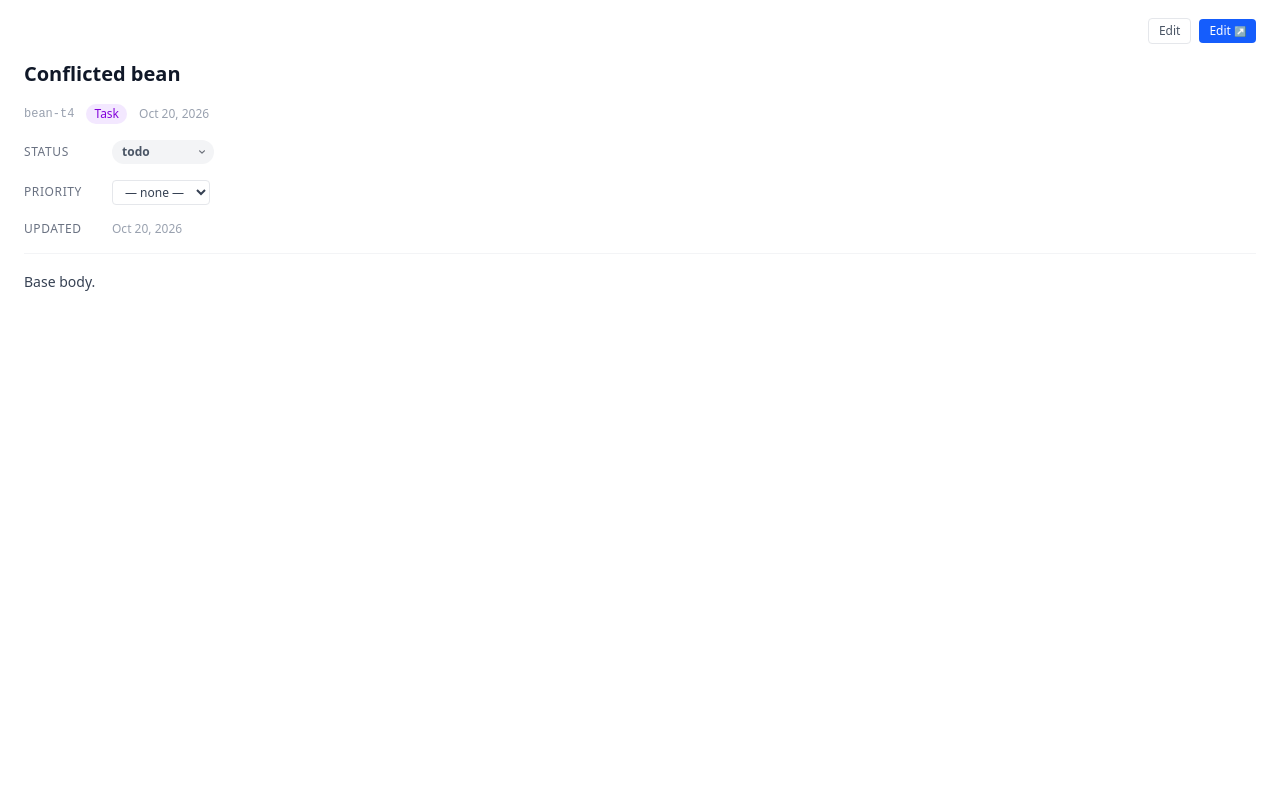
Test: T4 body conflict (P.-2jcn) › keeps the typed body, stays in edit mode and explains on CONFLICT
This screenshot has width=1280, height=794.
Click the button "Edit" at x=1170, y=31, box [1148,18,1191,44]
(page scrolled)
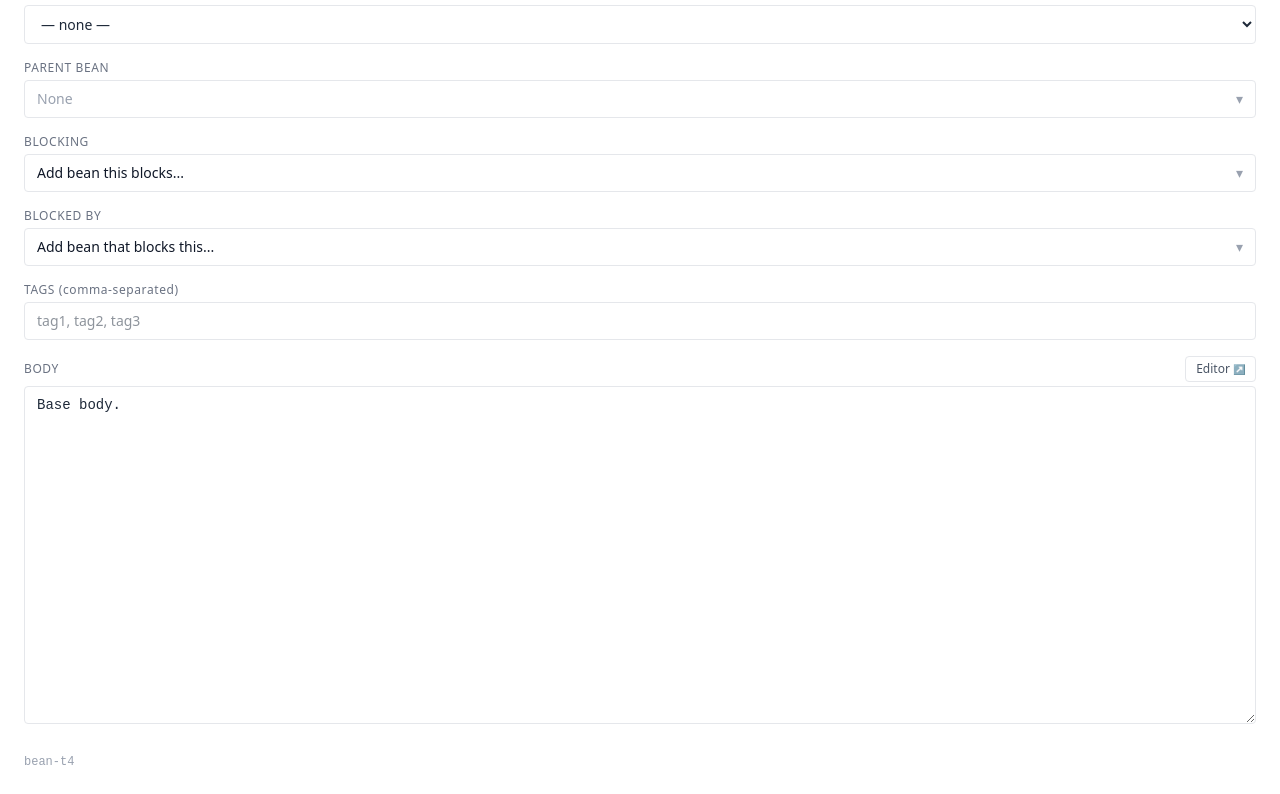
Replace the text in the text box with placeholder "Markdown body… type [ [ to link a bean" with "My careful edit." at x=640, y=555, box [24,386,1256,724]
(page scrolled)
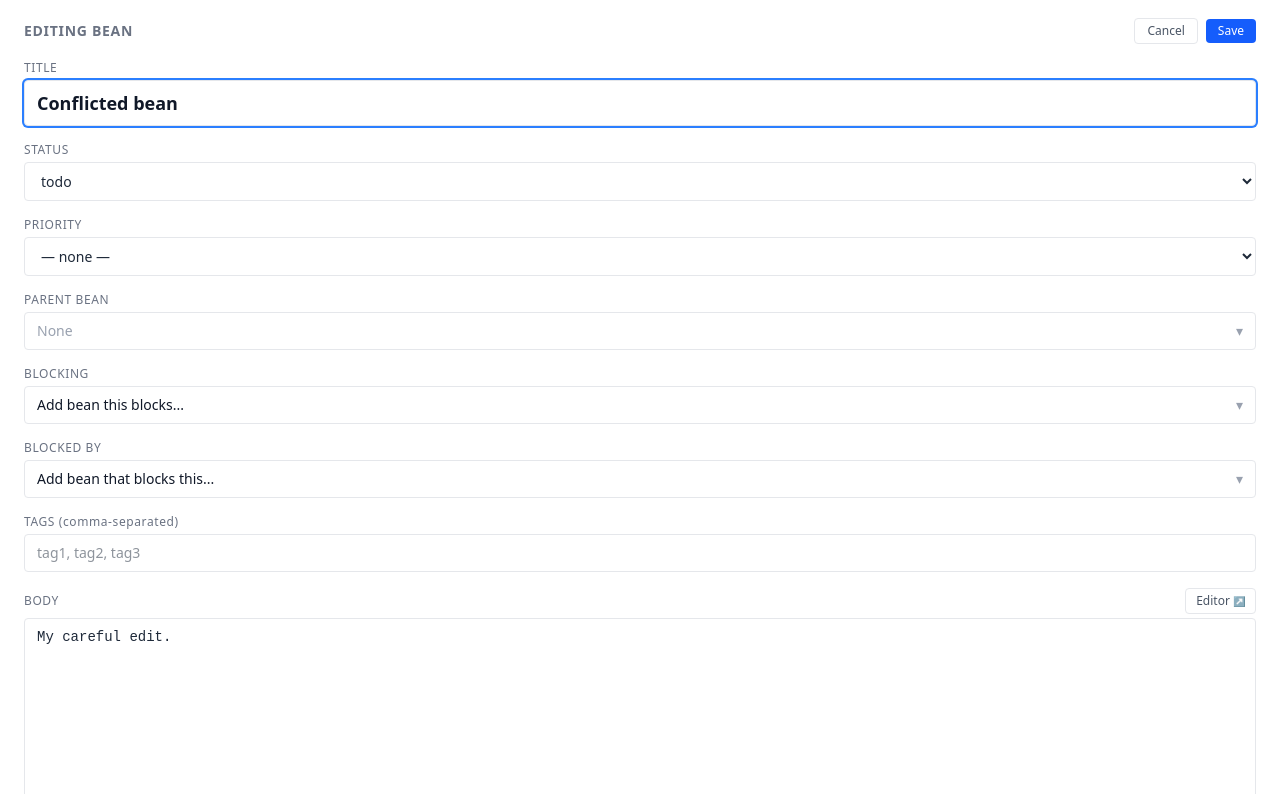
Click the button "Save" at x=1231, y=31, box [1206,19,1256,43]
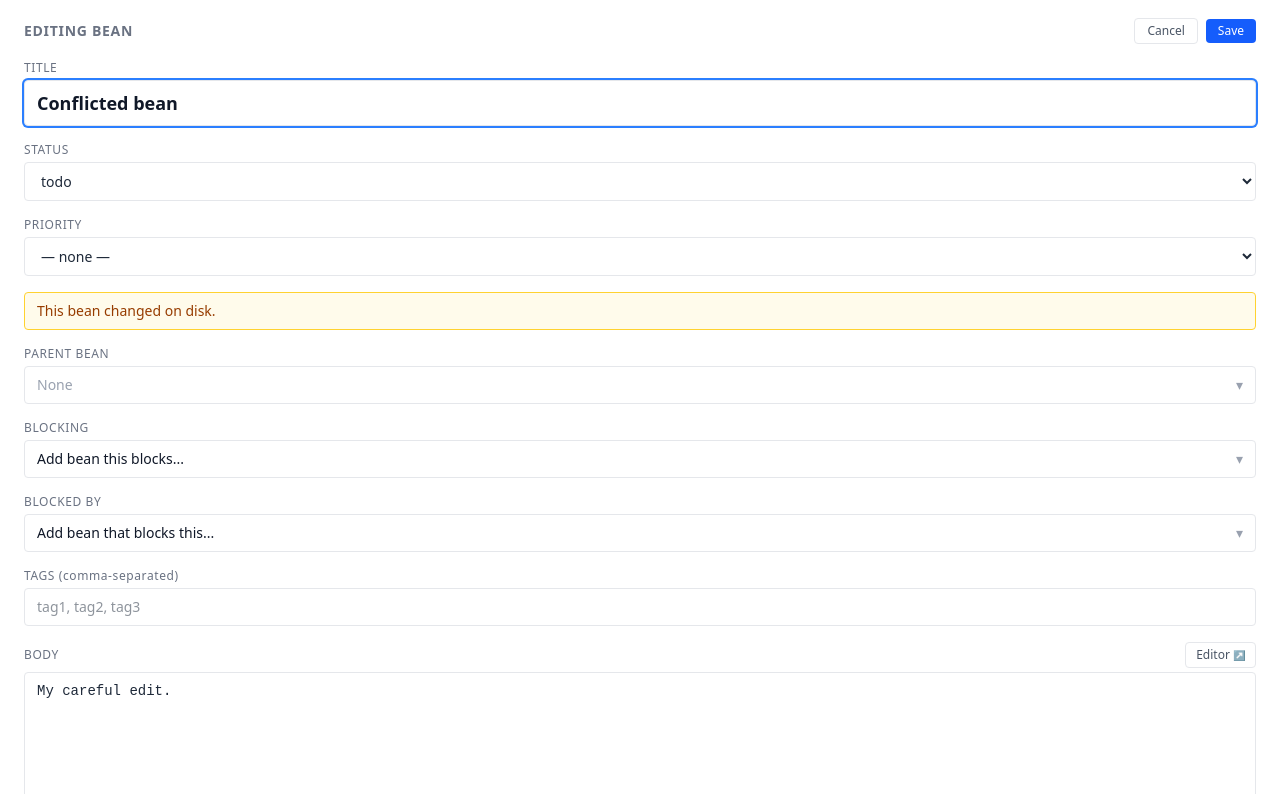
Expected: the button "Save" is shown, [1206,19,1256,43]
Expected: the message reads "This bean changed on disk.", [37,301,216,320]
